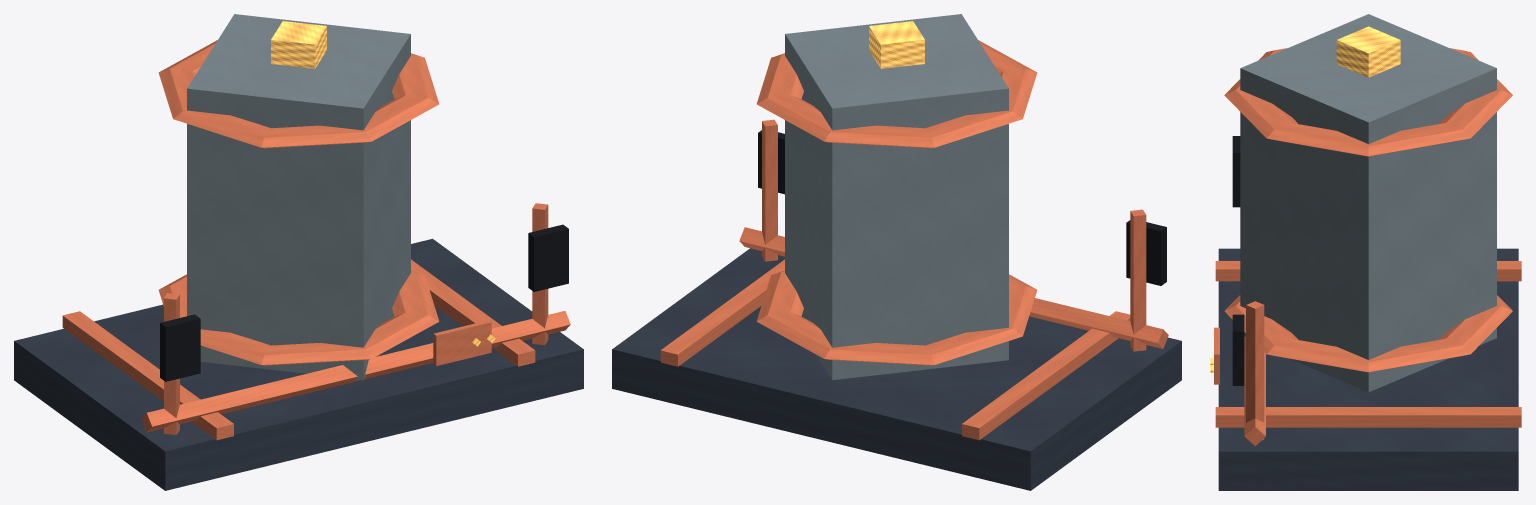
The model's file is atlas100-s023-a01.lod1.glb.
3 renders of one model, left to right at view 1: azimuth 30°, elevation 25°; view 2: azimuth 150°, elevation 25°; view 3: azimuth 270°, elevation 25°, orthographic.
Parts seen in each view (by area): view 1: atlas100-s023-a01:part-003, atlas100-s023-a01:part-000, atlas100-s023-a01:part-005, atlas100-s023-a01:part-004, atlas100-s023-a01:part-012, atlas100-s023-a01:part-001, atlas100-s023-a01:part-009, atlas100-s023-a01:part-011, atlas100-s023-a01:part-002, atlas100-s023-a01:part-006, atlas100-s023-a01:part-013, atlas100-s023-a01:part-010 (+1 smaller); view 2: atlas100-s023-a01:part-003, atlas100-s023-a01:part-000, atlas100-s023-a01:part-005, atlas100-s023-a01:part-004, atlas100-s023-a01:part-001, atlas100-s023-a01:part-012, atlas100-s023-a01:part-002, atlas100-s023-a01:part-006, atlas100-s023-a01:part-008, atlas100-s023-a01:part-010, atlas100-s023-a01:part-009, atlas100-s023-a01:part-011; view 3: atlas100-s023-a01:part-003, atlas100-s023-a01:part-000, atlas100-s023-a01:part-005, atlas100-s023-a01:part-004, atlas100-s023-a01:part-002, atlas100-s023-a01:part-006, atlas100-s023-a01:part-010, atlas100-s023-a01:part-001, atlas100-s023-a01:part-011, atlas100-s023-a01:part-012, atlas100-s023-a01:part-009, atlas100-s023-a01:part-013.
Part boxes in pixels (x1,y1,x2,y2): atlas100-s023-a01:part-003: (187,14,410,380); atlas100-s023-a01:part-000: (14,238,583,490); atlas100-s023-a01:part-005: (158,40,439,148); atlas100-s023-a01:part-004: (158,270,439,365); atlas100-s023-a01:part-012: (141,311,570,432); atlas100-s023-a01:part-001: (62,311,233,440); atlas100-s023-a01:part-009: (160,314,200,381); atlas100-s023-a01:part-011: (528,224,568,291); atlas100-s023-a01:part-002: (411,259,535,366); atlas100-s023-a01:part-006: (271,21,326,68); atlas100-s023-a01:part-013: (433,320,491,365); atlas100-s023-a01:part-010: (532,203,548,345); atlas100-s023-a01:part-003: (785,14,1008,380); atlas100-s023-a01:part-000: (612,248,1181,490); atlas100-s023-a01:part-005: (756,40,1037,148); atlas100-s023-a01:part-004: (756,270,1037,365); atlas100-s023-a01:part-001: (962,311,1130,440); atlas100-s023-a01:part-012: (739,227,1168,348); atlas100-s023-a01:part-002: (660,259,784,366); atlas100-s023-a01:part-006: (869,21,924,68); atlas100-s023-a01:part-008: (1130,209,1146,351); atlas100-s023-a01:part-010: (762,119,777,261); atlas100-s023-a01:part-009: (1126,220,1166,285); atlas100-s023-a01:part-011: (758,130,784,194); atlas100-s023-a01:part-003: (1240,14,1496,392); atlas100-s023-a01:part-000: (1218,248,1518,490); atlas100-s023-a01:part-005: (1224,48,1512,156); atlas100-s023-a01:part-004: (1224,295,1512,372); atlas100-s023-a01:part-002: (1215,407,1521,427); atlas100-s023-a01:part-006: (1336,26,1400,77); atlas100-s023-a01:part-010: (1246,301,1264,440); atlas100-s023-a01:part-001: (1215,261,1521,281); atlas100-s023-a01:part-011: (1232,314,1244,385); atlas100-s023-a01:part-012: (1244,336,1265,446); atlas100-s023-a01:part-009: (1232,136,1240,207); atlas100-s023-a01:part-013: (1214,327,1219,384).
Bounding box in the file's own units: 2.88 × 2.31 × 1.87.
5 materials, 5 textured.
